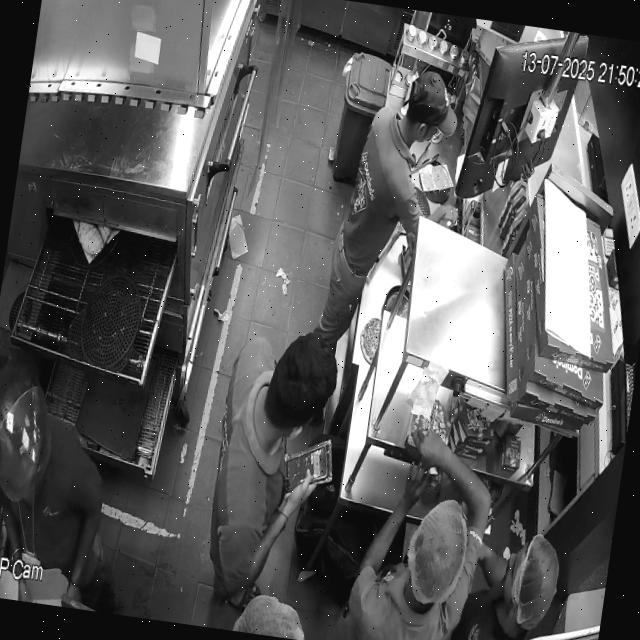no_helmet: (262, 334, 338, 443), (400, 71, 456, 150)
